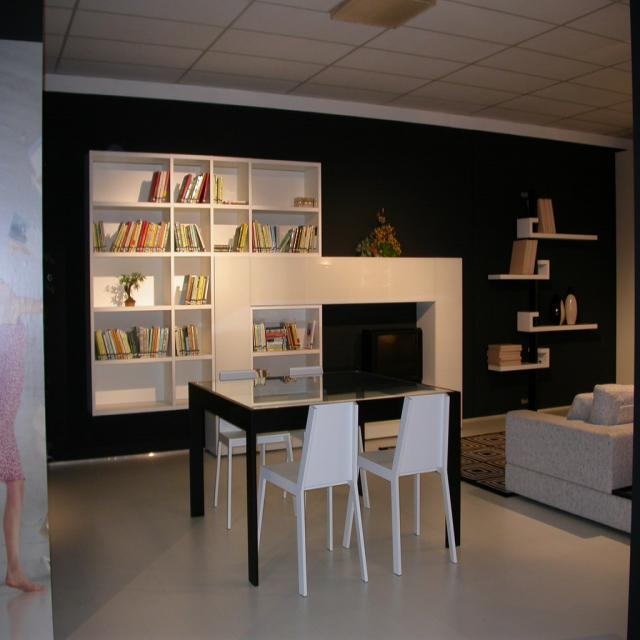chair: (255, 400, 368, 598), (354, 390, 459, 579)
desk: (192, 362, 422, 584)
